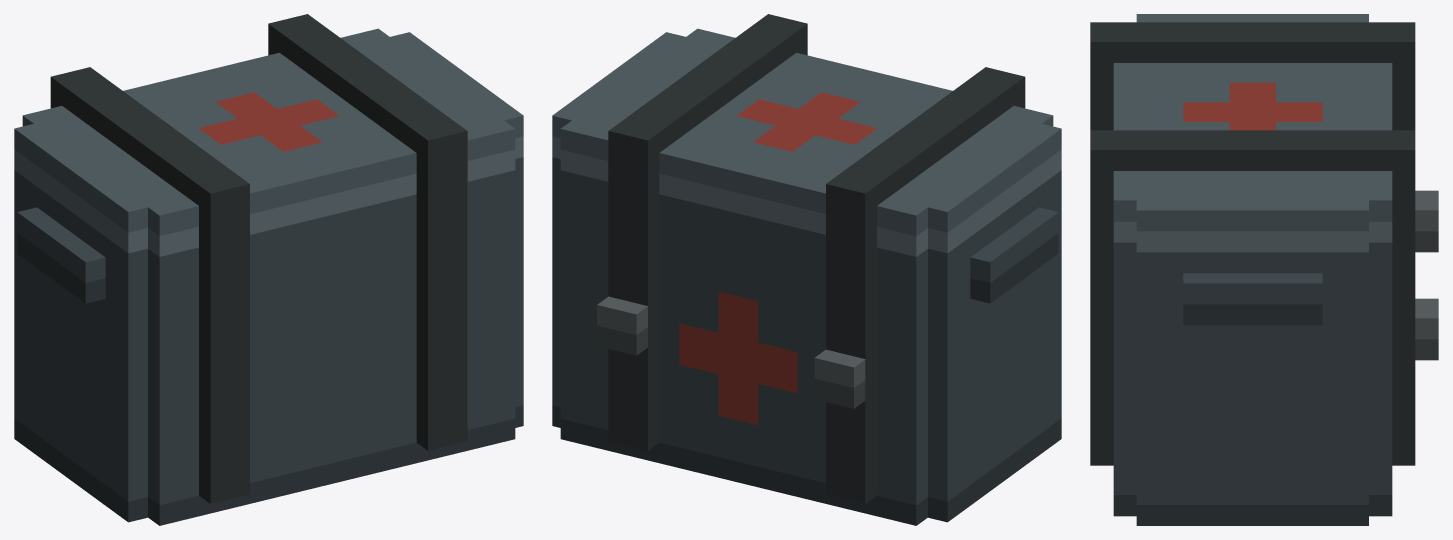
File: Claude_emergency_supply_box.glb
The picture shows the model from 3 angles, left to right: view 1: azimuth 30°, elevation 25°; view 2: azimuth 150°, elevation 25°; view 3: azimuth 270°, elevation 25°; orthographic projection.
Parts seen in each view (by area): view 1: Claude_emergency_supply_box; view 2: Claude_emergency_supply_box; view 3: Claude_emergency_supply_box.
Boxes of the visible parts, x1,y1,x2,y2 form: Claude_emergency_supply_box: [14, 14, 523, 525]; Claude_emergency_supply_box: [552, 14, 1061, 525]; Claude_emergency_supply_box: [1090, 14, 1438, 525].
Bounding box in the file's own units: 0.55 × 0.4 × 0.375.
